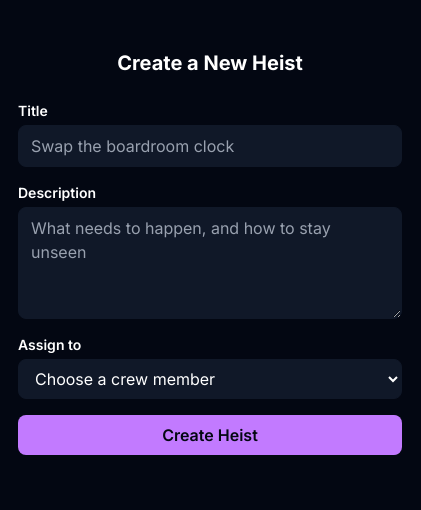
CreateHeistPage › shows an error and does not redirect when saving fails
This screenshot has width=421, height=510.
Type "Swap the clock" into the field labelled "Title" at (210,146), box [18,125,402,167]
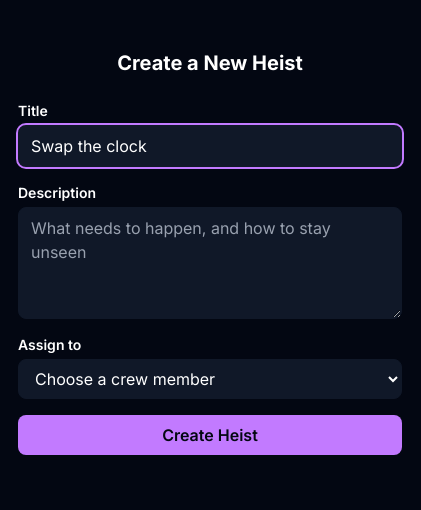
Type "Ten minutes fast" into the text box labelled "Description" at (210,263), box [18,207,402,319]
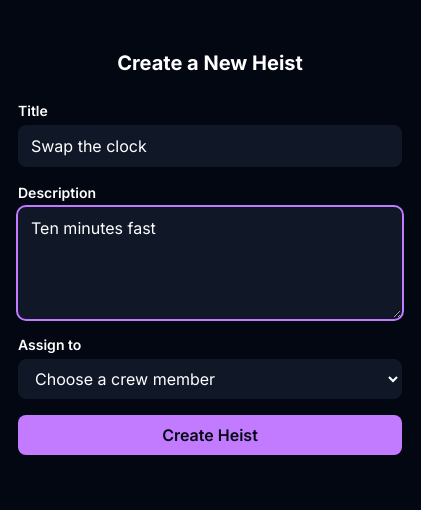
Select "MidnightJadeOtter" in the dropdown labelled "Assign to" at (210,379), box [18,359,402,399]
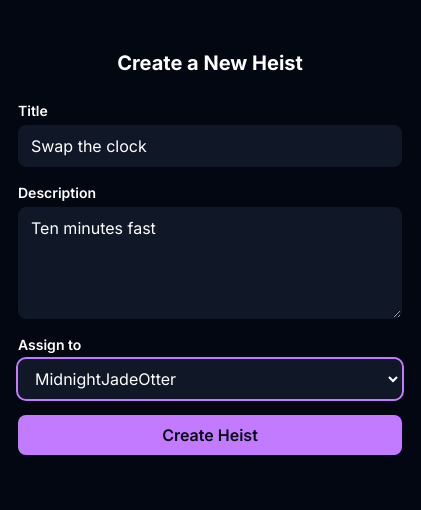
Click the button "Create Heist" at (210,435), box [18,415,402,455]
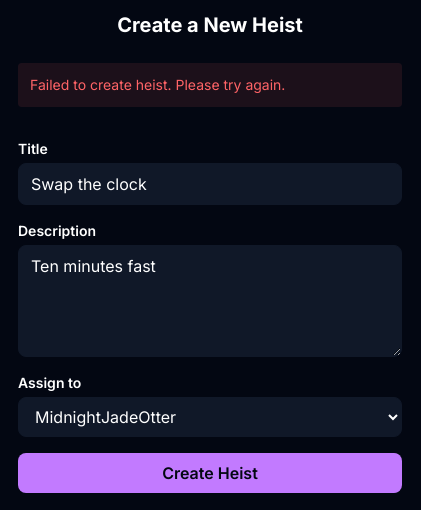
expect the message reads "Failed to create heist. Please try again.": met, box [30,76,285,93]
